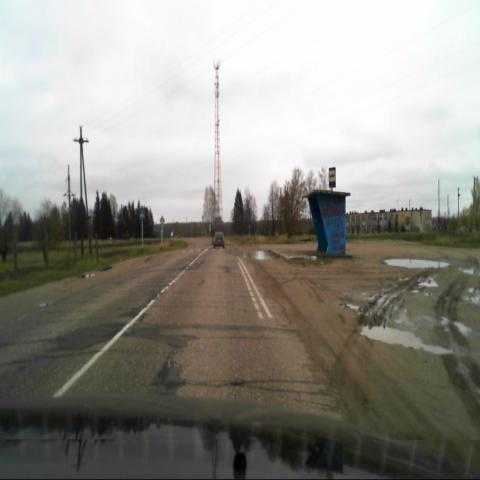5_16: (328, 167, 336, 188)
